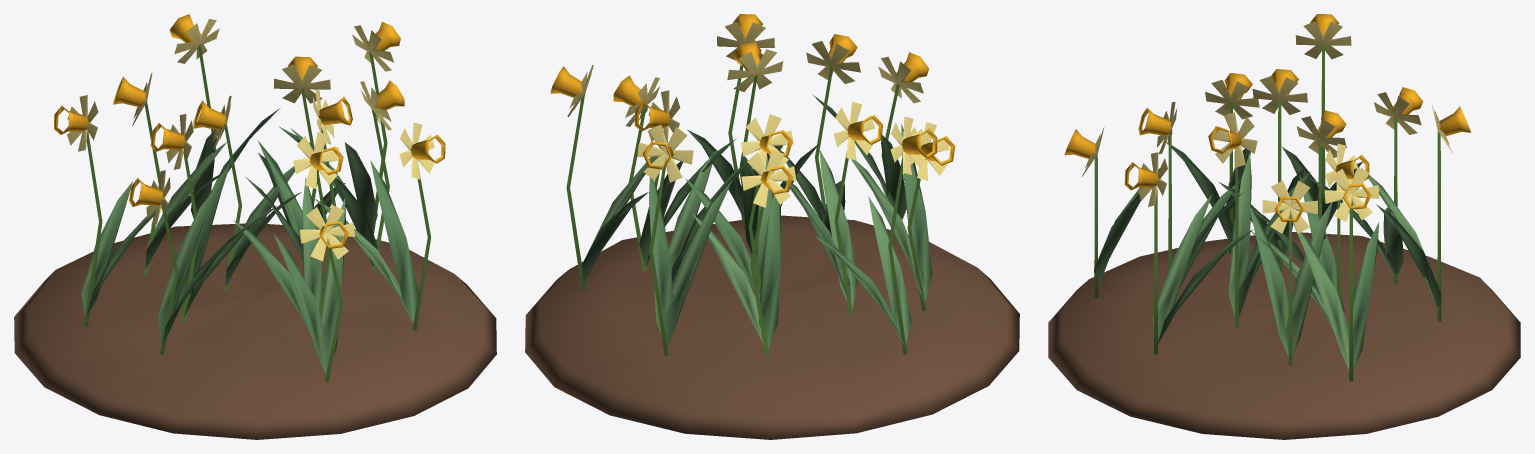
The model's file is daffodils.glb.
The picture shows the model from 3 angles, left to right: view 1: azimuth 30°, elevation 25°; view 2: azimuth 150°, elevation 25°; view 3: azimuth 270°, elevation 25°; orthographic projection. The views are drawn at different scales.
Visible parts, largest first — view 1: daffodils; view 2: daffodils; view 3: daffodils.
Part boxes in pixels (x1,y1,x2,y2): daffodils: (14,14,496,439); daffodils: (525,14,1019,439); daffodils: (1048,14,1520,439).
Bounding box in the file's own units: 0.84 × 0.491 × 0.84.
